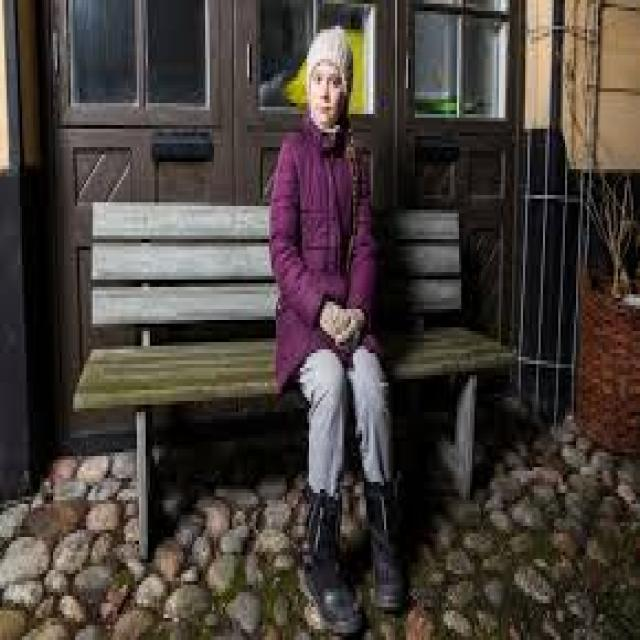nonfall: (268, 19, 402, 639)
